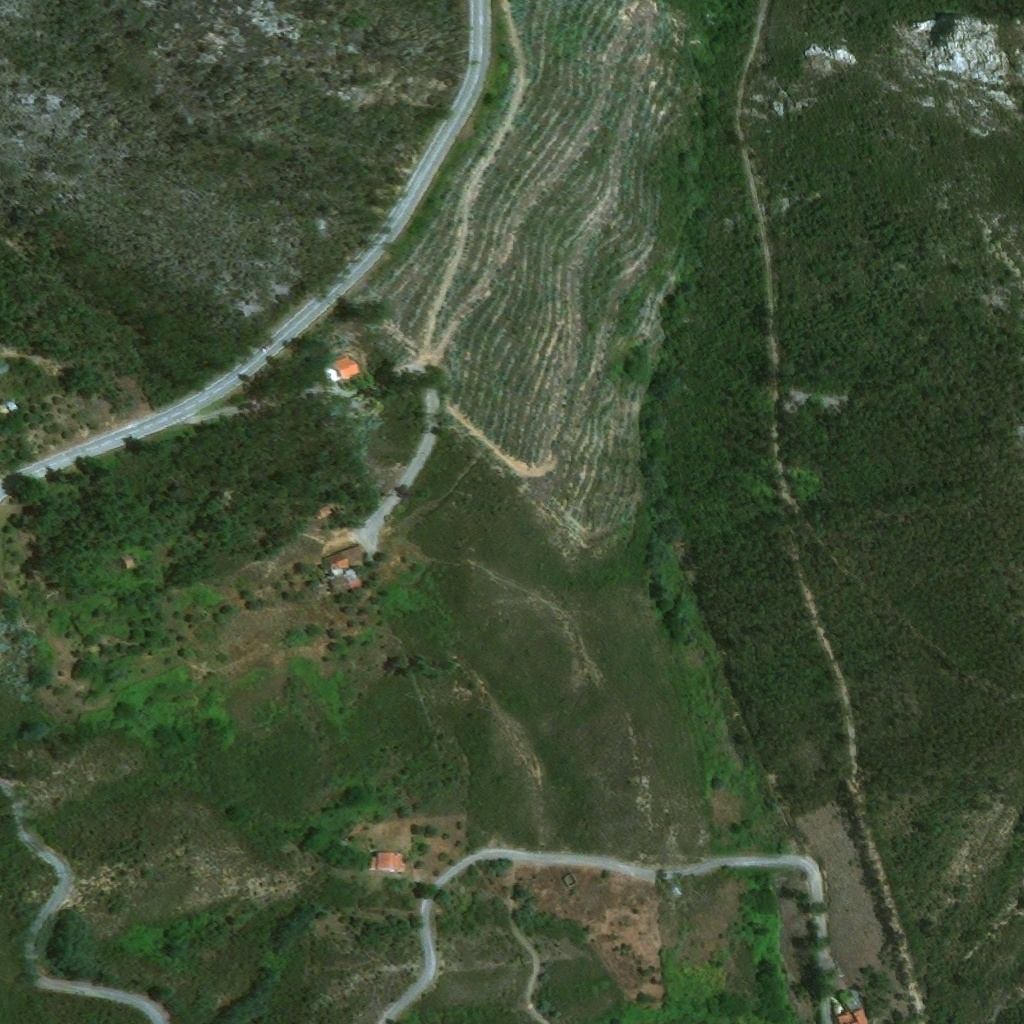0 no-damage: (321, 541, 369, 595), (331, 351, 365, 378), (367, 851, 406, 873), (314, 497, 342, 519), (836, 1007, 871, 1023), (119, 547, 144, 569), (341, 821, 364, 844), (1, 395, 21, 413), (668, 883, 681, 897), (0, 362, 14, 375)
